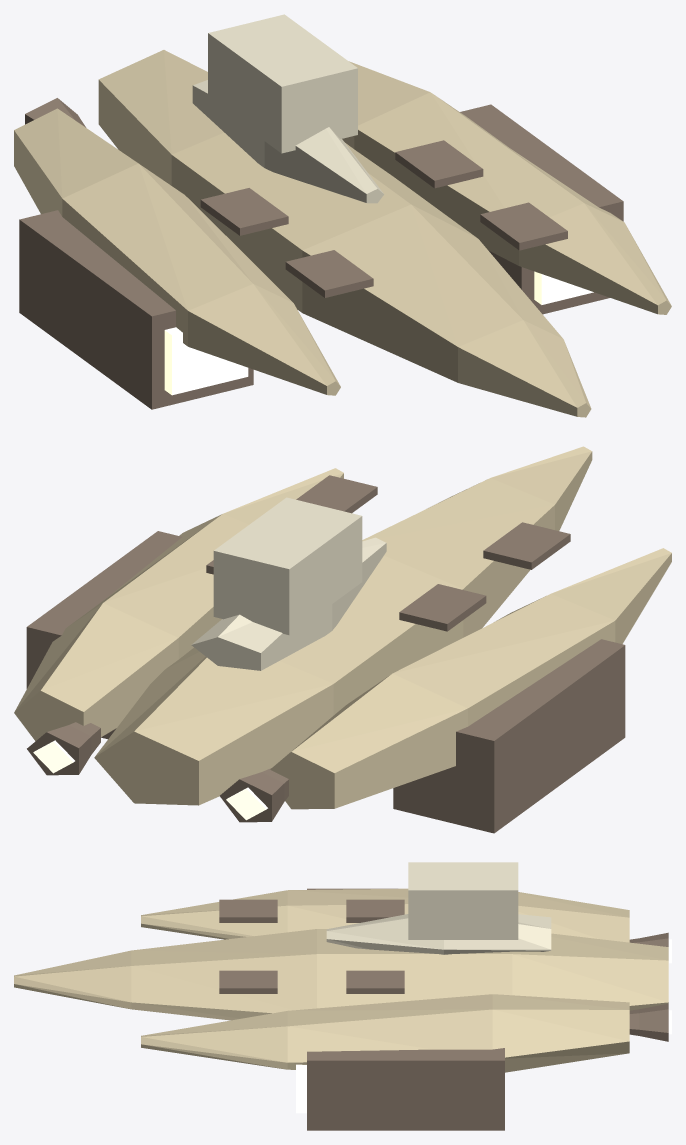
3 renders of one model, top to bottom at view 1: azimuth 30°, elevation 25°; view 2: azimuth 150°, elevation 25°; view 3: azimuth 270°, elevation 25°, orthographic. The views are drawn at different scales.
Bounding box in the file's own units: 14.81 × 6.75 × 23.93.
